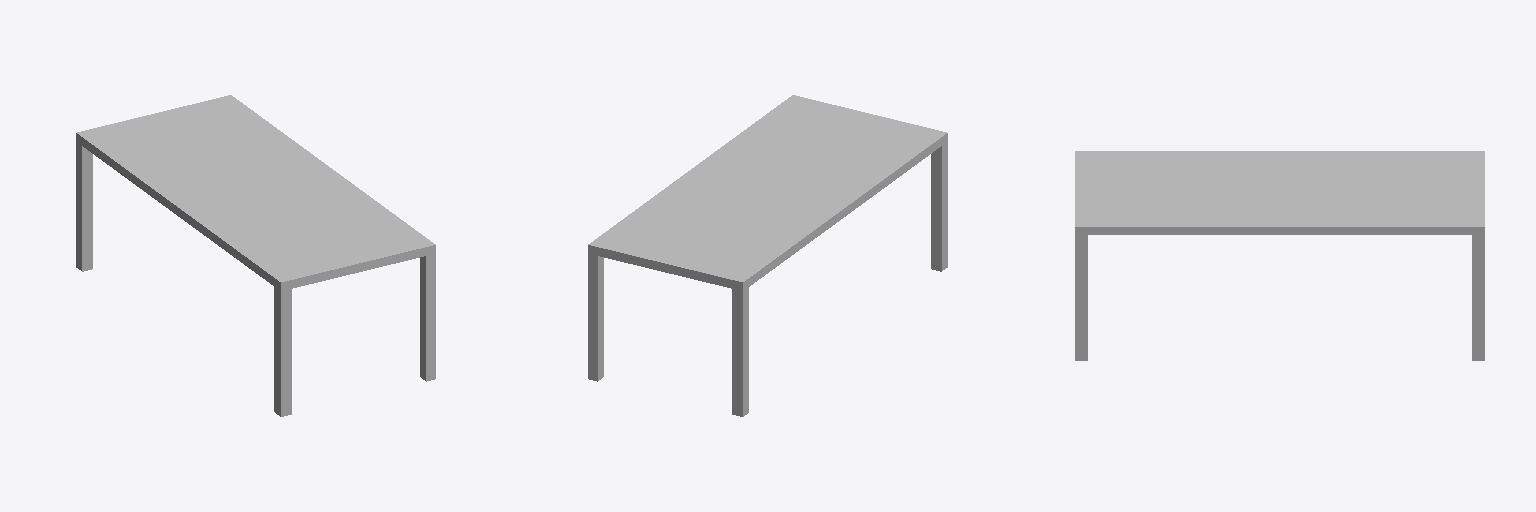
File: desk01.obj
3 renders of one model, left to right at view 1: azimuth 30°, elevation 25°; view 2: azimuth 150°, elevation 25°; view 3: azimuth 270°, elevation 25°, orthographic.
Visible parts, largest first — view 1: Desk_Cube.003; view 2: Desk_Cube.003; view 3: Desk_Cube.003.
Part boxes in pixels (left/top/right/bottom): Desk_Cube.003: left=76, top=95, right=435, bottom=416; Desk_Cube.003: left=588, top=95, right=947, bottom=416; Desk_Cube.003: left=1075, top=151, right=1484, bottom=360.
Size of the model in its own units: 0.7206 by 0.5976 by 1.65.